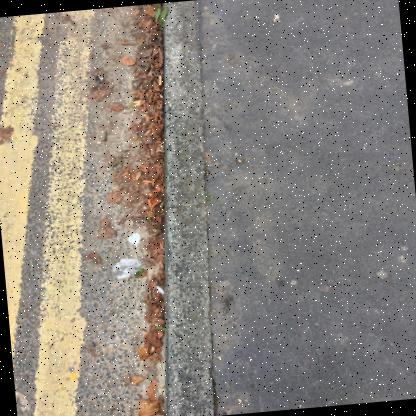Cigarette: (159, 76, 161, 85)
Plastic film: (111, 259, 142, 279)
Unlabeled litter: (128, 233, 141, 246)
